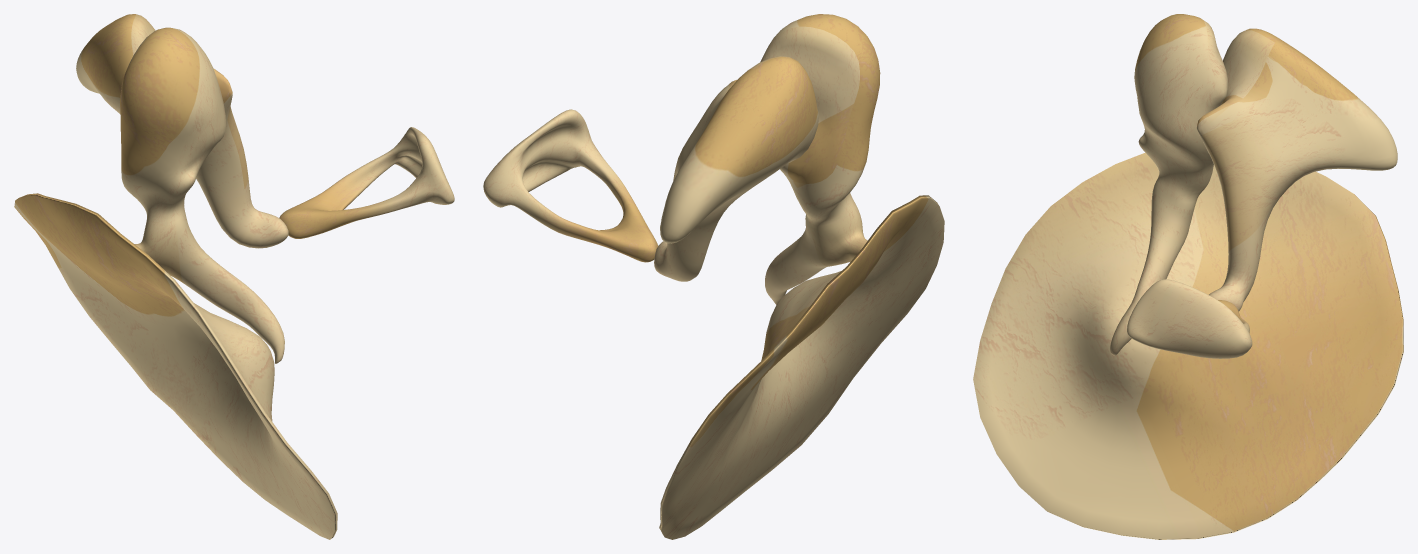
The model's file is telinga-tengah.fbx.
3 views of the same model, side by side, from view 1: azimuth 30°, elevation 25°; view 2: azimuth 150°, elevation 25°; view 3: azimuth 270°, elevation 25° (orthographic). The views are drawn at different scales.
Visible parts, largest first — view 1: Object_6, Object_7, Object_4, Object_3; view 2: Object_6, Object_7, Object_4, Object_3; view 3: Object_6, Object_4, Object_7, Object_3.
Boxes of the visible parts, bbox=[...] form: Object_6: bbox=[14, 193, 337, 539]; Object_7: bbox=[120, 27, 284, 363]; Object_4: bbox=[76, 14, 288, 248]; Object_3: bbox=[279, 127, 454, 238]; Object_6: bbox=[659, 195, 944, 539]; Object_7: bbox=[760, 14, 880, 304]; Object_4: bbox=[654, 56, 819, 281]; Object_3: bbox=[483, 109, 658, 262]; Object_6: bbox=[973, 152, 1403, 539]; Object_4: bbox=[1197, 28, 1397, 311]; Object_7: bbox=[1109, 14, 1227, 355]; Object_3: bbox=[1127, 279, 1252, 358].
Size of the model in its own units: 416 by 547 by 452.
4 materials, 4 textured.
